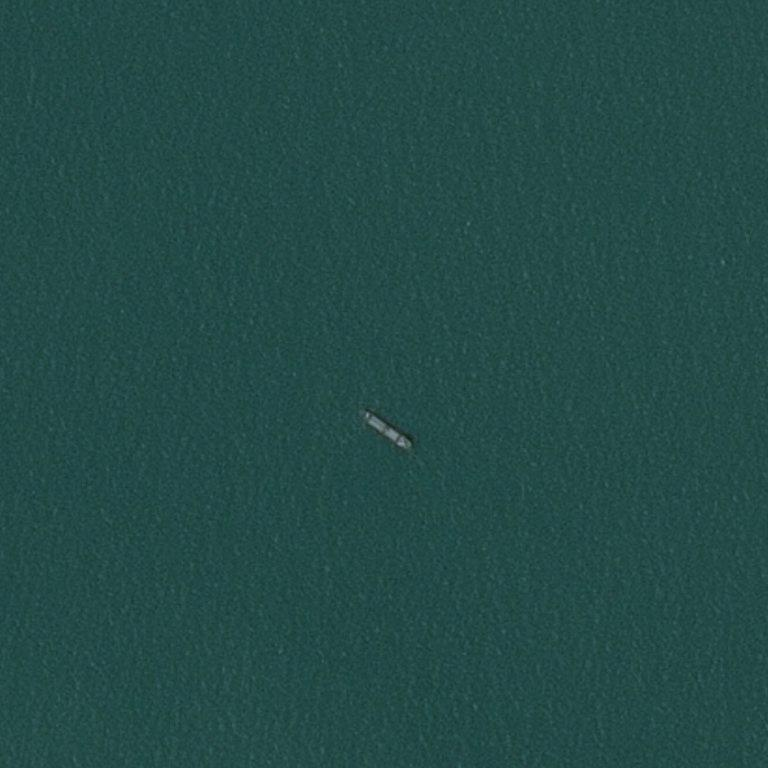ship: (360, 408, 414, 451), (361, 410, 364, 414), (388, 444, 390, 447), (406, 449, 409, 450)
